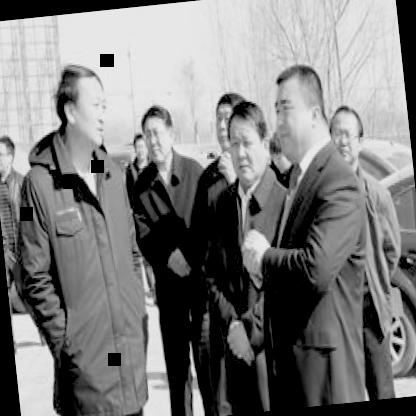head: (261, 50, 332, 162), (48, 53, 114, 154), (222, 90, 277, 192), (138, 95, 180, 171), (326, 100, 368, 166), (210, 84, 244, 155), (0, 131, 23, 179), (127, 128, 147, 170)
